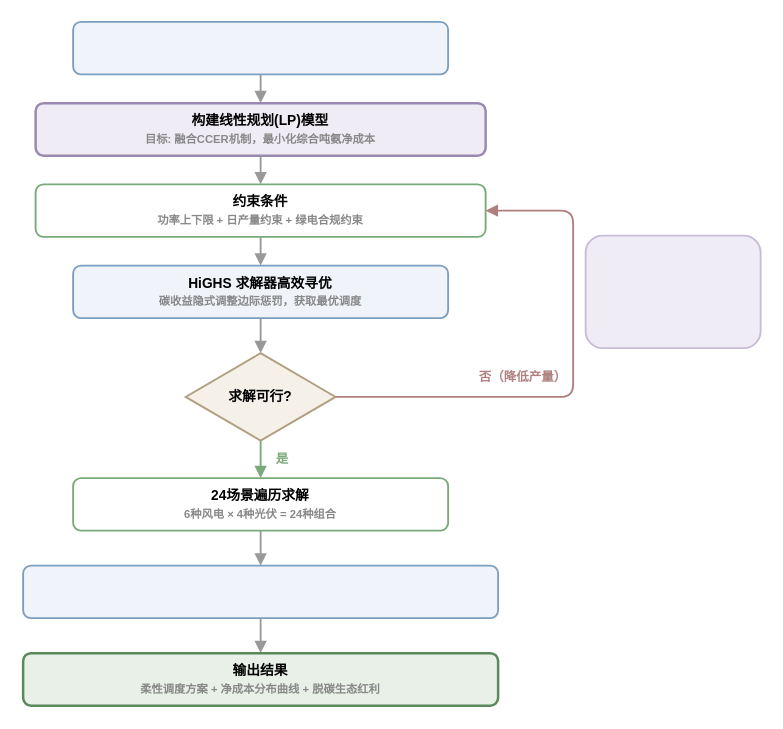
The diagram is 783 pixels wide and 729 high, and some of its shapes have lost their labels. The box of each missing label's shape, as (x1, y1, x2, y2) in pixels:
工具与方法 线性规划(LP) CCER基准线法 连续功率调节: (584, 234, 761, 348)
统计分析 + 与问题二对比 累计碳减排效益与经济性/绿电指标综合评估: (22, 564, 498, 618)
设定产能与碳市参数 功率连续可调(10%-100%)，引入碳价与排放因子: (72, 20, 448, 75)
